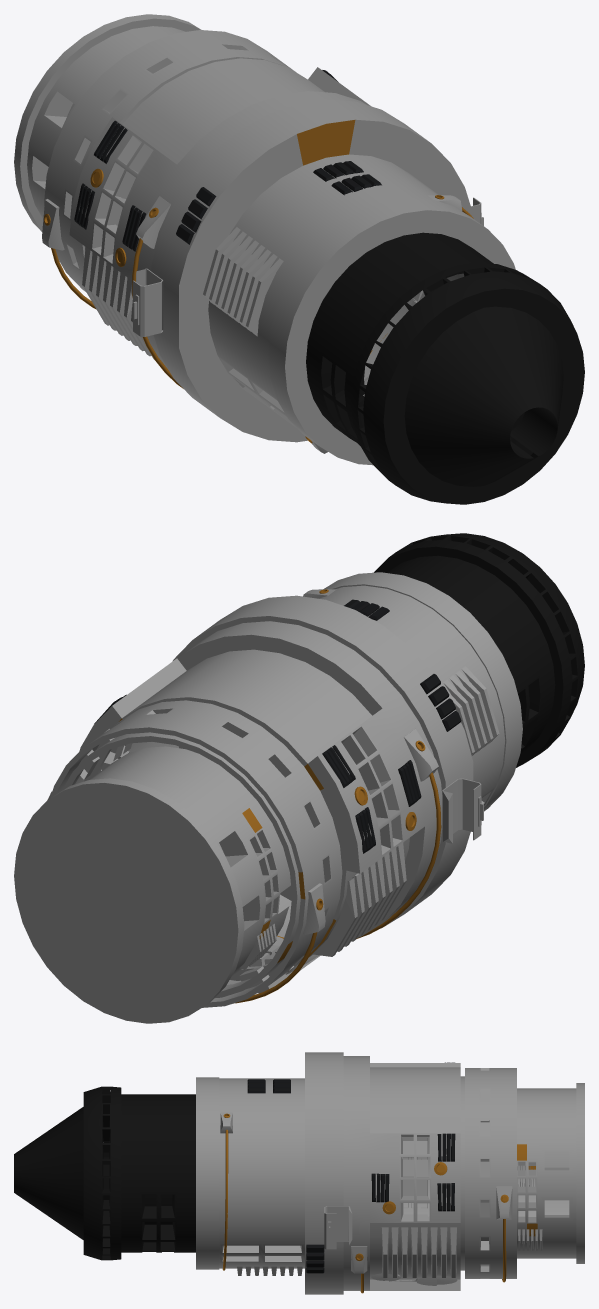
The model's file is Satelite.obj.
The picture shows the model from 3 angles, top to bottom: view 1: azimuth 30°, elevation 25°; view 2: azimuth 150°, elevation 25°; view 3: azimuth 270°, elevation 25°; orthographic projection. The views are drawn at different scales.
Visible parts, largest first — view 1: Object_5.003_Satellite.002, Object_5.003_Satellite_2.002, Object_5.003_Packs.002, Object_5.003_Gold.002; view 2: Object_5.003_Satellite.002, Object_5.003_Satellite_2.002, Object_5.003_Packs.002, Object_5.003_Gold.002; view 3: Object_5.003_Satellite.002, Object_5.003_Satellite_2.002, Object_5.003_Packs.002, Object_5.003_Gold.002.
Boxes of the visible parts, x1,y1,x2,y2 form: Object_5.003_Satellite.002: (14, 14, 515, 465); Object_5.003_Satellite_2.002: (306, 232, 584, 504); Object_5.003_Packs.002: (74, 70, 381, 251); Object_5.003_Gold.002: (44, 120, 473, 443); Object_5.003_Satellite.002: (14, 572, 522, 1023); Object_5.003_Satellite_2.002: (374, 533, 584, 767); Object_5.003_Packs.002: (94, 599, 461, 853); Object_5.003_Gold.002: (119, 589, 441, 1003); Object_5.003_Satellite.002: (196, 1052, 584, 1294); Object_5.003_Satellite_2.002: (14, 1086, 195, 1260); Object_5.003_Packs.002: (247, 1062, 455, 1273); Object_5.003_Gold.002: (222, 1113, 537, 1293).
Bounding box in the file's own units: 2.98 × 2.56 × 6.02.
